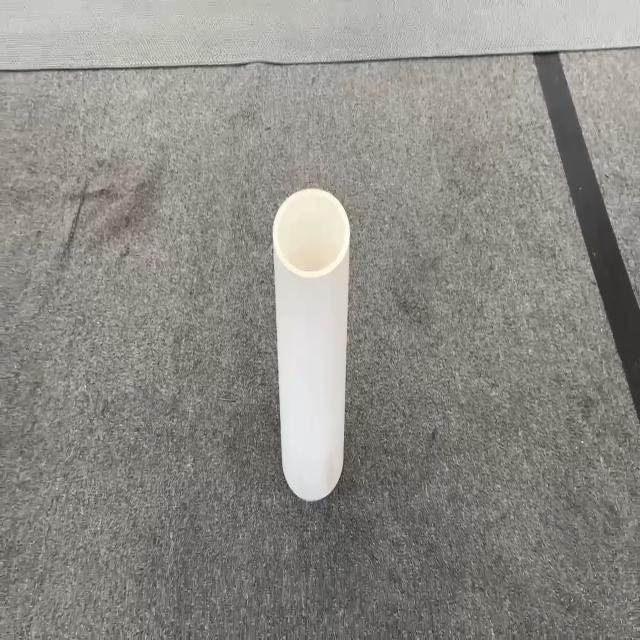coral: (271, 186, 351, 501)
